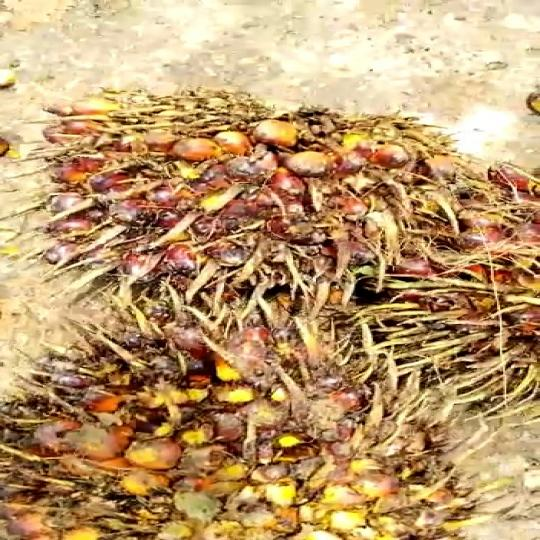masak: (32, 87, 443, 321), (0, 336, 445, 539)
